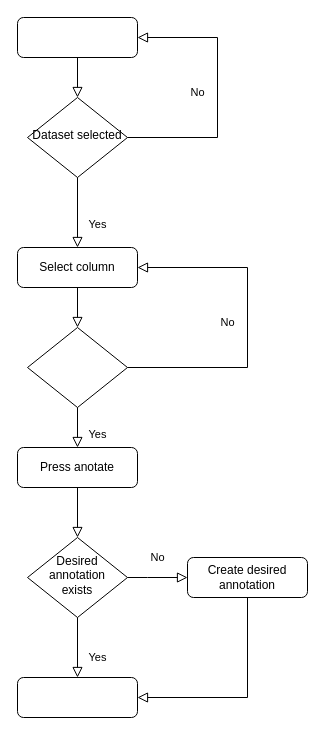
Image size: 325x735. Some labels were removed from this diagram. Each missing label, with the centre of its shape:
"Annotate" belongs at (77,697).
"Column selected" belongs at (77,367).
"Select dataset" belongs at (77,37).
